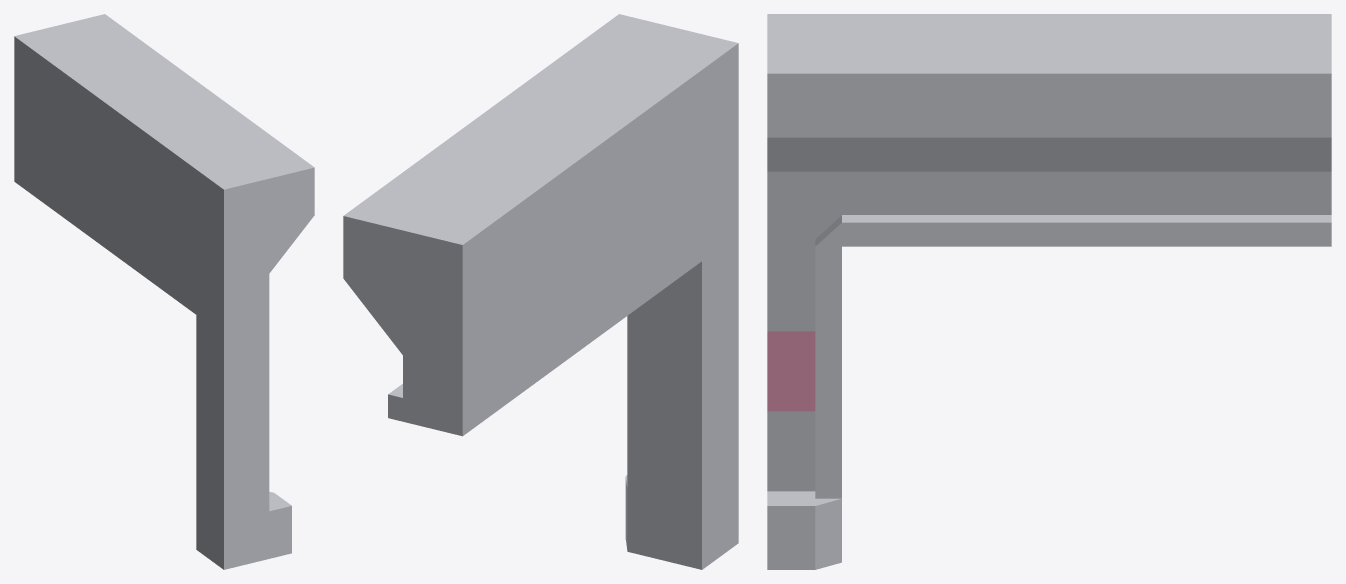
The picture shows the model from 3 angles, left to right: view 1: azimuth 30°, elevation 25°; view 2: azimuth 150°, elevation 25°; view 3: azimuth 270°, elevation 25°; orthographic projection. The views are drawn at different scales.
Parts seen in each view (by area): view 1: object_041-col; view 2: object_041-col; view 3: object_041-col.
Boxes of the visible parts, left/top/right/bottom form: object_041-col: left=14, top=14, right=314, bottom=569; object_041-col: left=343, top=14, right=738, bottom=569; object_041-col: left=767, top=14, right=1331, bottom=569.
Bounding box in the file's own units: 0.25 × 1 × 1.
